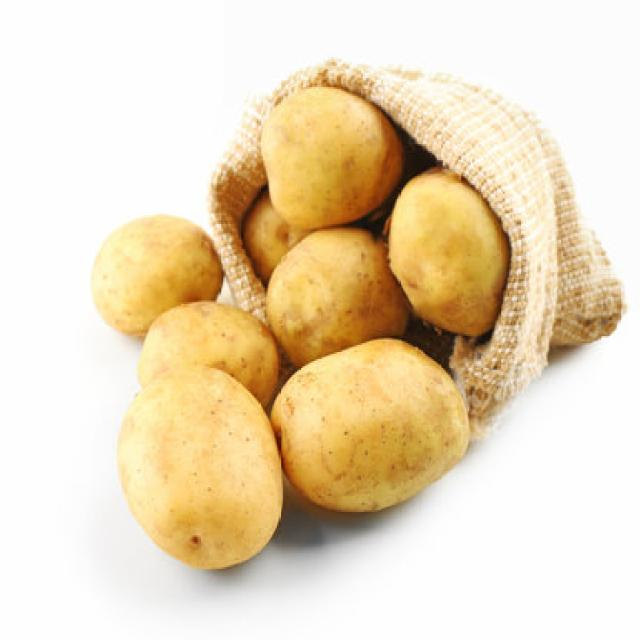Potato: (115, 363, 283, 569), (284, 345, 460, 512), (386, 165, 509, 336), (259, 84, 403, 230), (265, 224, 409, 366), (136, 299, 278, 409), (98, 218, 224, 326)
